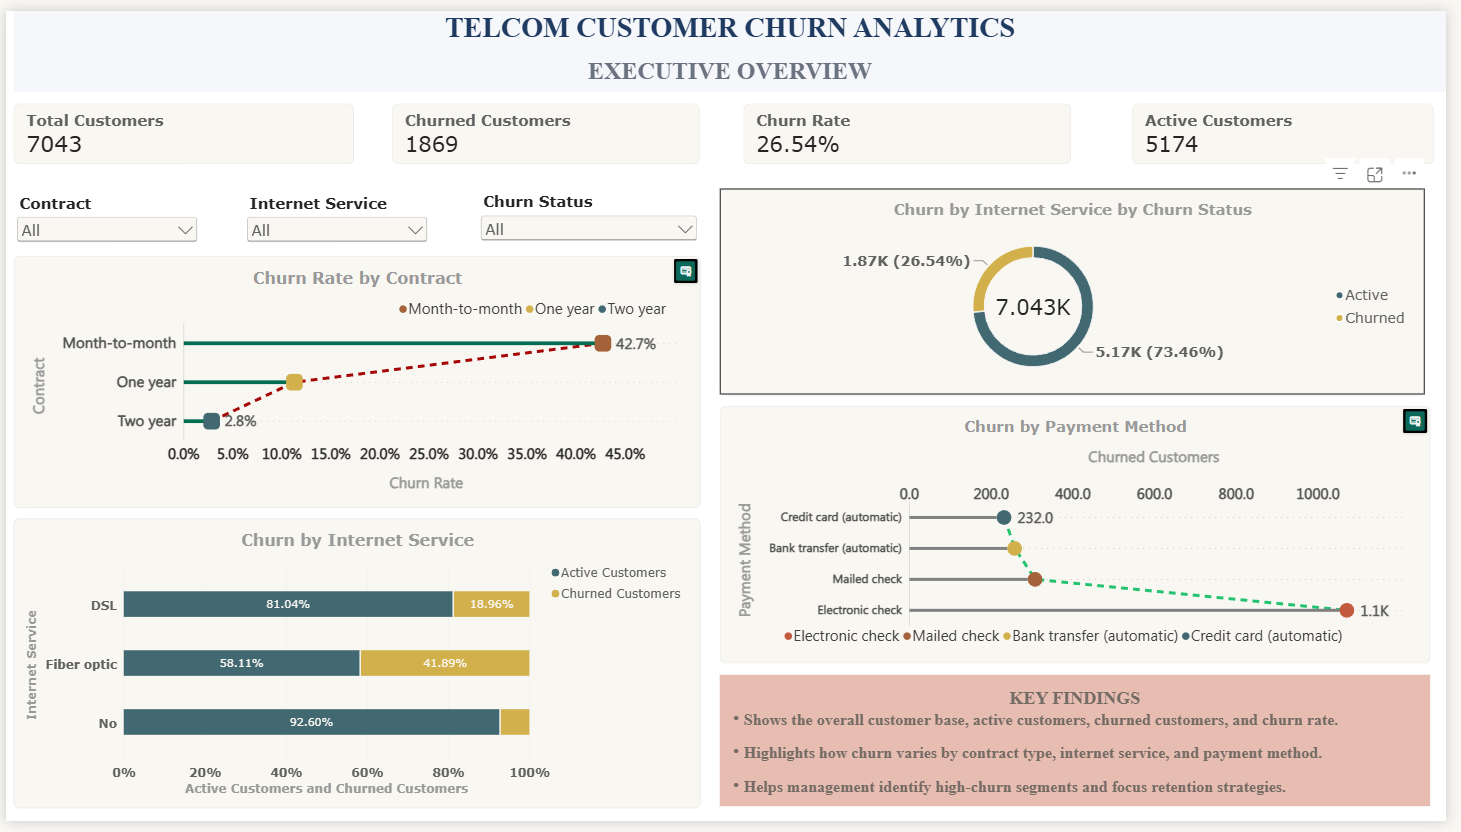

The page's visual inventory and layout, read from the dashboard file:
{"tool":"powerbi","page":{"name":"Executive Overview","canvas":[1920,1080],"ordinal":0},"visuals":[{"type":"textbox","box":[9.8,0,1910.6,107.7],"z":0},{"type":"cardVisual","fields":{"Data":["Churn_Analysis.Total Customers"]},"box":[9.5,123,454.1,81.4],"z":1000},{"type":"cardVisual","fields":{"Data":["Churn_Analysis.Churned Customers"]},"box":[514.6,123,410.6,81.4],"z":2000},{"type":"cardVisual","fields":{"Data":["Churn_Analysis.Churn Rate"]},"box":[983.8,123,437.1,81.4],"z":3000},{"type":"cardVisual","fields":{"Data":["Churn_Analysis.Active Customers"]},"box":[1502.2,123,403,81.4],"z":4000},{"type":"slicer","fields":{"Values":["Customer_Details.Contract"]},"box":[10,244,250,96],"z":5000},{"type":"slicer","fields":{"Values":["Customer_Services.InternetService"]},"box":[316,244,250,82],"z":6000},{"type":"slicer","fields":{"Values":["Churn_Analysis.Churn Status"]},"box":[628,242,298,98],"z":7000},{"type":"lollipopChart50393786178B4137A75F3257CB590B96","title":"Churn Rate by Contract","fields":{"category":["Customer_Details.Contract"],"measure":["Churn_Analysis.Churn Rate"]},"box":[10,326,916,336],"z":8000},{"type":"donutChart","fields":{"Category":["Churn_Analysis.Churn Status"],"Y":["CountNonNull(Churn_Analysis.customerID)"]},"box":[952,236,940,276],"z":9000},{"type":"hundredPercentStackedBarChart","title":"Churn by Internet Service","fields":{"Category":["Customer_Services.InternetService"],"Y":["Churn_Analysis.Active Customers","Churn_Analysis.Churned Customers"]},"box":[10,676,916,386],"z":10000},{"type":"lollipopChart50393786178B4137A75F3257CB590B96","title":"Churn by Payment Method","fields":{"category":["Customer_Details.PaymentMethod"],"measure":["Churn_Analysis.Churned Customers"]},"box":[951,526.5,946.9,342.9],"z":11000},{"type":"textbox","box":[951,885.7,946.9,175.5],"z":12000}]}

Visuals, with their boxes in screenshot pixels (x1, y1, x2, y2), scaled from the page's 1920x1080 canvas onto the 1461x832 screenshot:
textbox: {"x1": 7, "y1": 0, "x2": 1460, "y2": 83}
cardVisual - Churn_Analysis.Total Customers: {"x1": 7, "y1": 95, "x2": 353, "y2": 157}
cardVisual - Churn_Analysis.Churned Customers: {"x1": 392, "y1": 95, "x2": 704, "y2": 157}
cardVisual - Churn_Analysis.Churn Rate: {"x1": 749, "y1": 95, "x2": 1081, "y2": 157}
cardVisual - Churn_Analysis.Active Customers: {"x1": 1143, "y1": 95, "x2": 1450, "y2": 157}
slicer - Customer_Details.Contract: {"x1": 8, "y1": 188, "x2": 198, "y2": 262}
slicer - Customer_Services.InternetService: {"x1": 240, "y1": 188, "x2": 431, "y2": 251}
slicer - Churn_Analysis.Churn Status: {"x1": 478, "y1": 186, "x2": 705, "y2": 262}
"Churn Rate by Contract" lollipopChart50393786178B4137A75F3257CB590B96: {"x1": 8, "y1": 251, "x2": 705, "y2": 510}
donutChart - Churn_Analysis.Churn Status x CountNonNull(Churn_Analysis.customerID): {"x1": 724, "y1": 182, "x2": 1440, "y2": 394}
"Churn by Internet Service" hundredPercentStackedBarChart: {"x1": 8, "y1": 521, "x2": 705, "y2": 818}
"Churn by Payment Method" lollipopChart50393786178B4137A75F3257CB590B96: {"x1": 724, "y1": 406, "x2": 1444, "y2": 670}
textbox: {"x1": 724, "y1": 682, "x2": 1444, "y2": 818}
